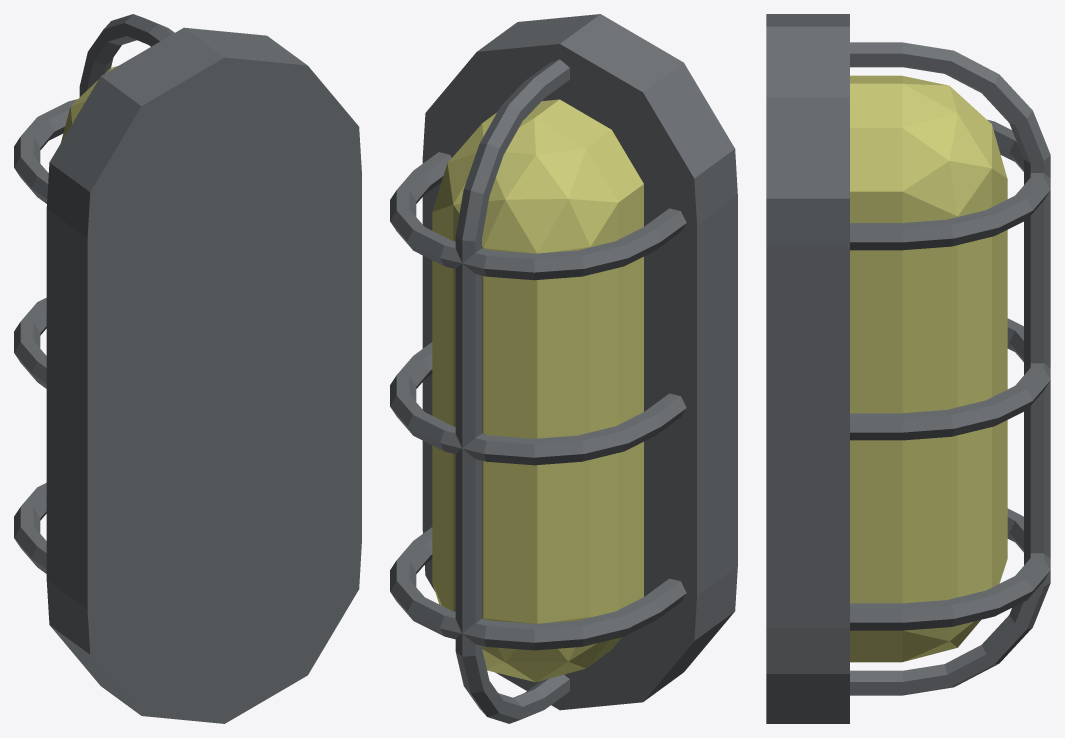
File: DarkGreyMetalDecorationSmallCagedLight1.fbx
3 views of the same model, side by side, from view 1: azimuth 30°, elevation 25°; view 2: azimuth 150°, elevation 25°; view 3: azimuth 270°, elevation 25° (orthographic). The views are drawn at different scales.
Visible parts, largest first — view 1: DarkGreyMetalDecorationSmallCagedLight1; view 2: DarkGreyMetalDecorationSmallCagedLight1, LampBulb_007; view 3: DarkGreyMetalDecorationSmallCagedLight1, LampBulb_007.
Boxes of the visible parts, x1=… form: DarkGreyMetalDecorationSmallCagedLight1: x1=14, y1=14, x2=361, y2=723; DarkGreyMetalDecorationSmallCagedLight1: x1=390, y1=14, x2=737, y2=723; LampBulb_007: x1=432, y1=99, x2=643, y2=682; DarkGreyMetalDecorationSmallCagedLight1: x1=766, y1=14, x2=1050, y2=723; LampBulb_007: x1=850, y1=75, x2=1007, y2=662.
Size of the model in its own units: 77.55 by 180 by 67.81.
